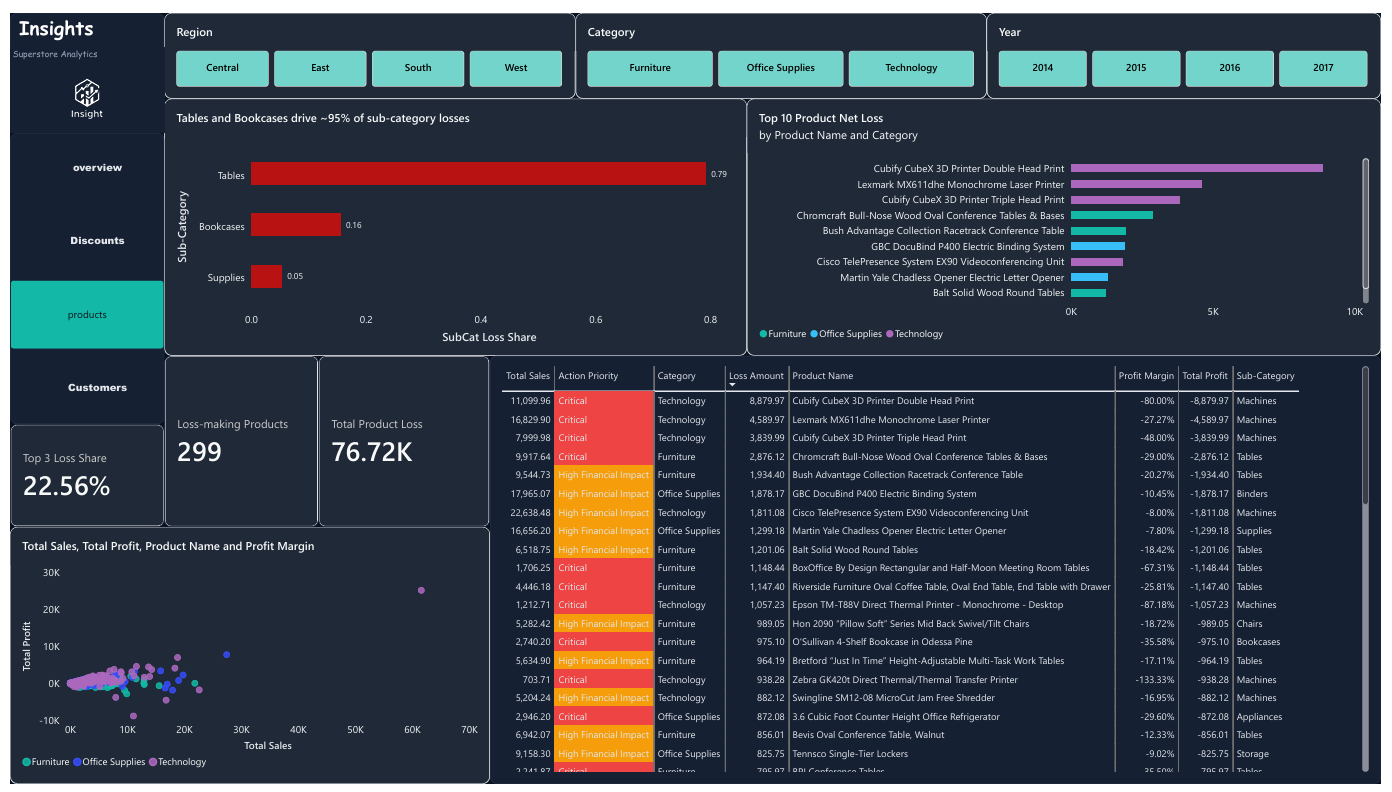

What the dashboard file says about the page in this screenshot:
{"tool":"powerbi","page":{"name":"products","canvas":[1920,1080],"ordinal":2},"visuals":[{"type":"cardVisual","fields":{"Data":["dimension product.Total Product Loss"]},"box":[432,480,240,240],"z":0},{"type":"cardVisual","fields":{"Data":["dimension product.Loss-making Products"]},"box":[216,480,216,240],"z":1000},{"type":"cardVisual","fields":{"Data":["dimension product.Top 3 Loss Share"]},"box":[0,576,216,144],"z":2000},{"type":"barChart","title":"Tables and Bookcases drive ~95% of sub-category losses","fields":{"Category":["dimension product.Sub-Category"],"Y":["dimension product.SubCat Loss Share"]},"box":[216,120,816,360],"z":3000},{"type":"barChart","title":"Top 10 Product Net Loss","fields":{"Category":["dimension product.Product Name"],"Series":["dimension product.Category"],"Y":["dimension product.Product Net Loss"]},"box":[1032,120,888,360],"z":4000},{"type":"scatterChart","title":"Total Sales, Total Profit, Product Name and Profit Margin","fields":{"Category":["dimension product.Product ID"],"Series":["dimension product.Category"],"X":["Sample - Superstore.Total Sales"],"Y":["Sample - Superstore.Total Profit"]},"box":[0,720,672,360],"z":5000},{"type":"tableEx","fields":{"Values":["Sample - Superstore.Total Sales","dimension product.Action Priority","dimension product.Category","dimension product.Loss Amount","dimension product.Product Name","Sample - Superstore.Profit Margin","Sample - Superstore.Total Profit","dimension product.Sub-Category"]},"box":[672,480,1248,600],"z":6000},{"type":"advancedSlicerVisual","fields":{"Values":["dimension product.Category"]},"box":[792,0,576,120],"z":7000},{"type":"advancedSlicerVisual","fields":{"Values":["dimension date.Year"]},"box":[1368,0,552,120],"z":8000},{"type":"advancedSlicerVisual","fields":{"Values":["Sample - Superstore.Region"]},"box":[216,0,576,120],"z":9000},{"type":"pageNavigator","box":[0,168,216,408],"z":10000},{"type":"image","box":[0,72,216,96],"z":11000},{"type":"textbox","box":[0,0,216,72],"z":12000},{"type":"textbox","box":[0,48,216,24],"z":13000}]}

Visuals, with their boxes on the page's 1920x1080 design canvas (x1, y1, x2, y2). These are canvas units, not pixel positions in the 1392x792 screenshot, which may show the page scaled, cropped or inside an application window:
cardVisual - dimension product.Total Product Loss: select_region(432, 480, 672, 720)
cardVisual - dimension product.Loss-making Products: select_region(216, 480, 432, 720)
cardVisual - dimension product.Top 3 Loss Share: select_region(0, 576, 216, 720)
"Tables and Bookcases drive ~95% of sub-category losses" barChart: select_region(216, 120, 1032, 480)
"Top 10 Product Net Loss" barChart: select_region(1032, 120, 1920, 480)
"Total Sales, Total Profit, Product Name and Profit Margin" scatterChart: select_region(0, 720, 672, 1080)
tableEx - Sample - Superstore.Total Sales x dimension product.Action Priority: select_region(672, 480, 1920, 1080)
advancedSlicerVisual - dimension product.Category: select_region(792, 0, 1368, 120)
advancedSlicerVisual - dimension date.Year: select_region(1368, 0, 1920, 120)
advancedSlicerVisual - Sample - Superstore.Region: select_region(216, 0, 792, 120)
pageNavigator: select_region(0, 168, 216, 576)
image: select_region(0, 72, 216, 168)
textbox: select_region(0, 0, 216, 72)
textbox: select_region(0, 48, 216, 72)
